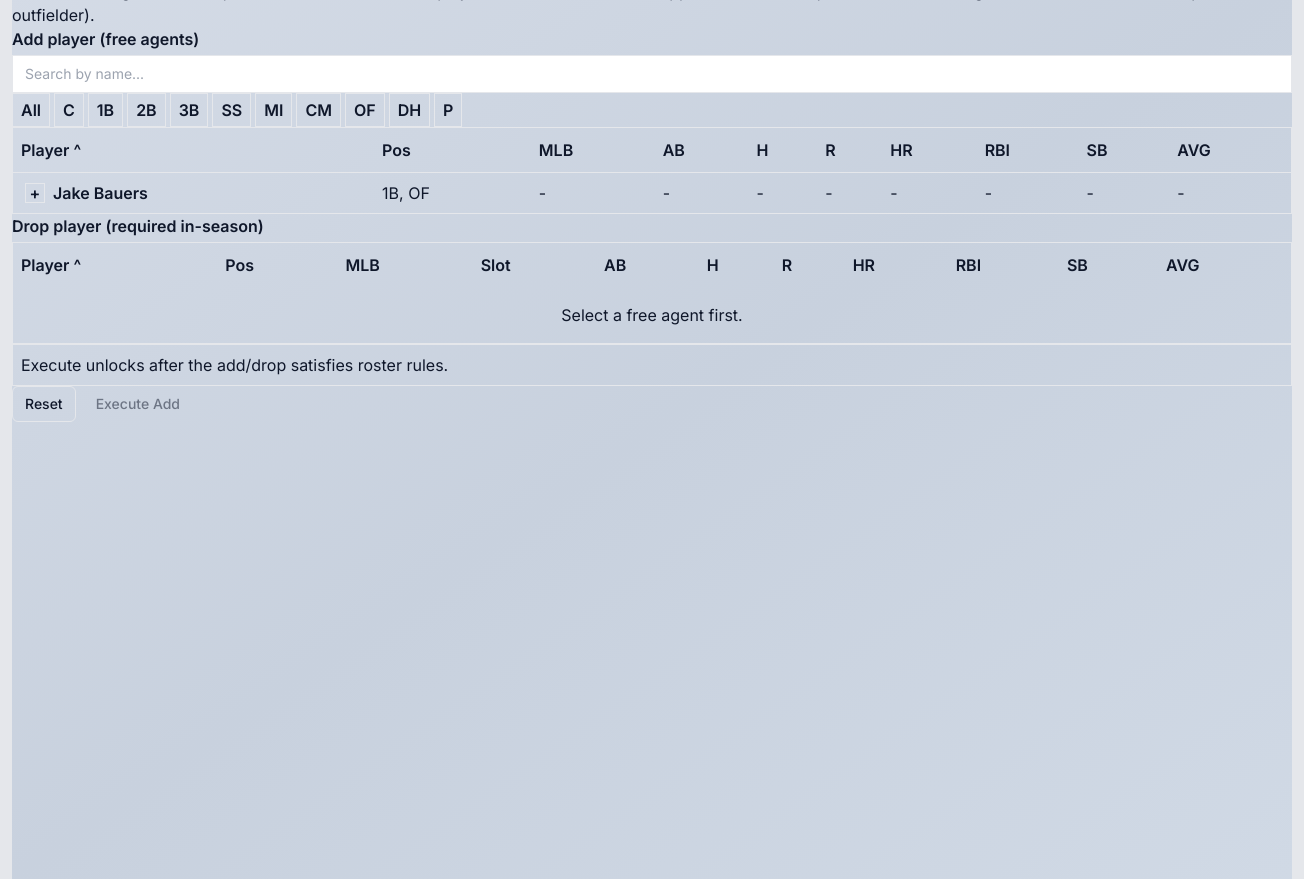
Test: AddDropPanel — DROP_REQUIRED in-season › in-season, submit button enables when both add and drop are selected
The width and height of the screenshot is (1304, 879).
Click the text "Jake Bauers". click: (100, 193)
box: [53,181,148,205]
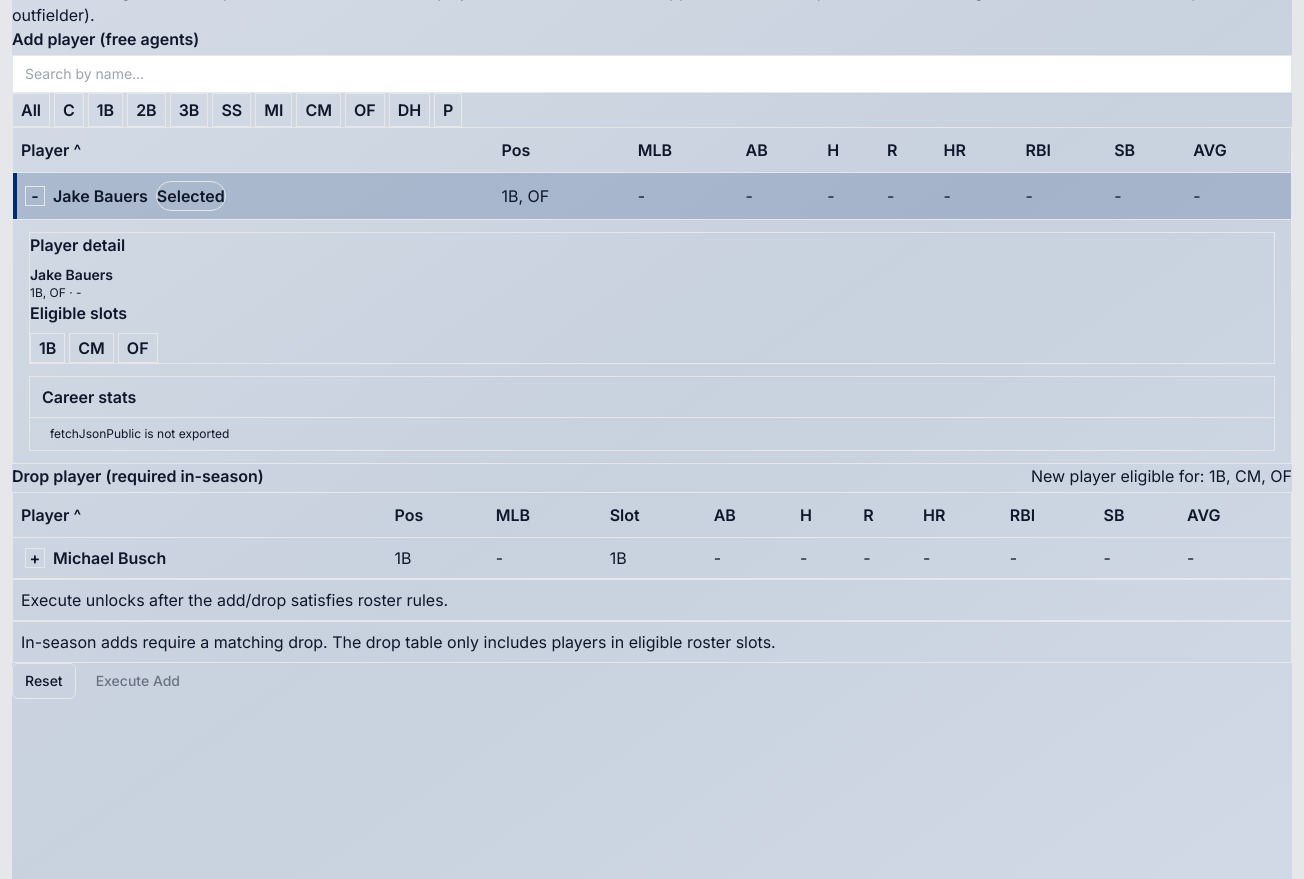
Click the row "+ Michael Busch 1B - 1B - - - - - - -". click: (652, 558)
box: [13,538,1291,578]
(page scrolled)
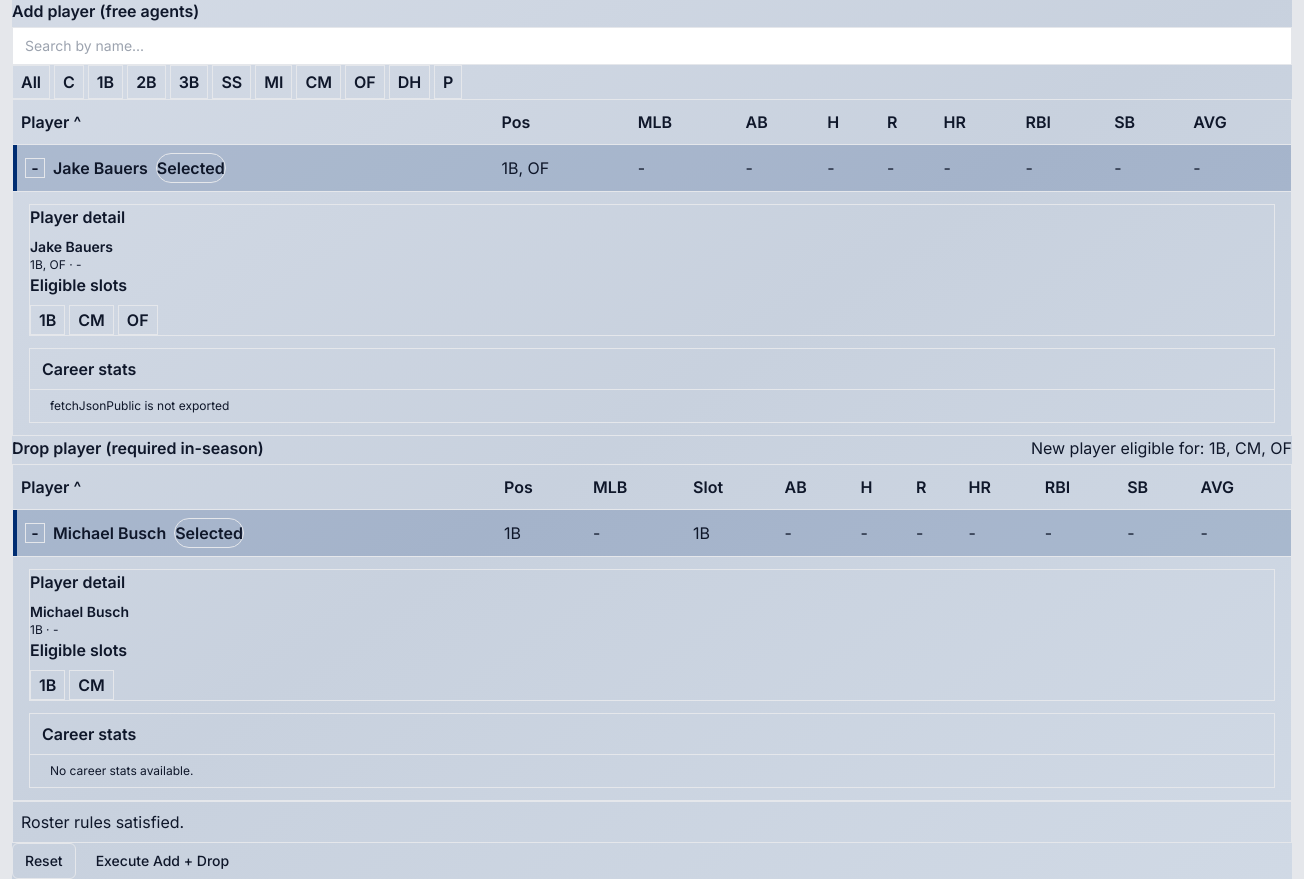
Result: the button "Execute Add + Drop" is enabled at [84,843,241,878]
